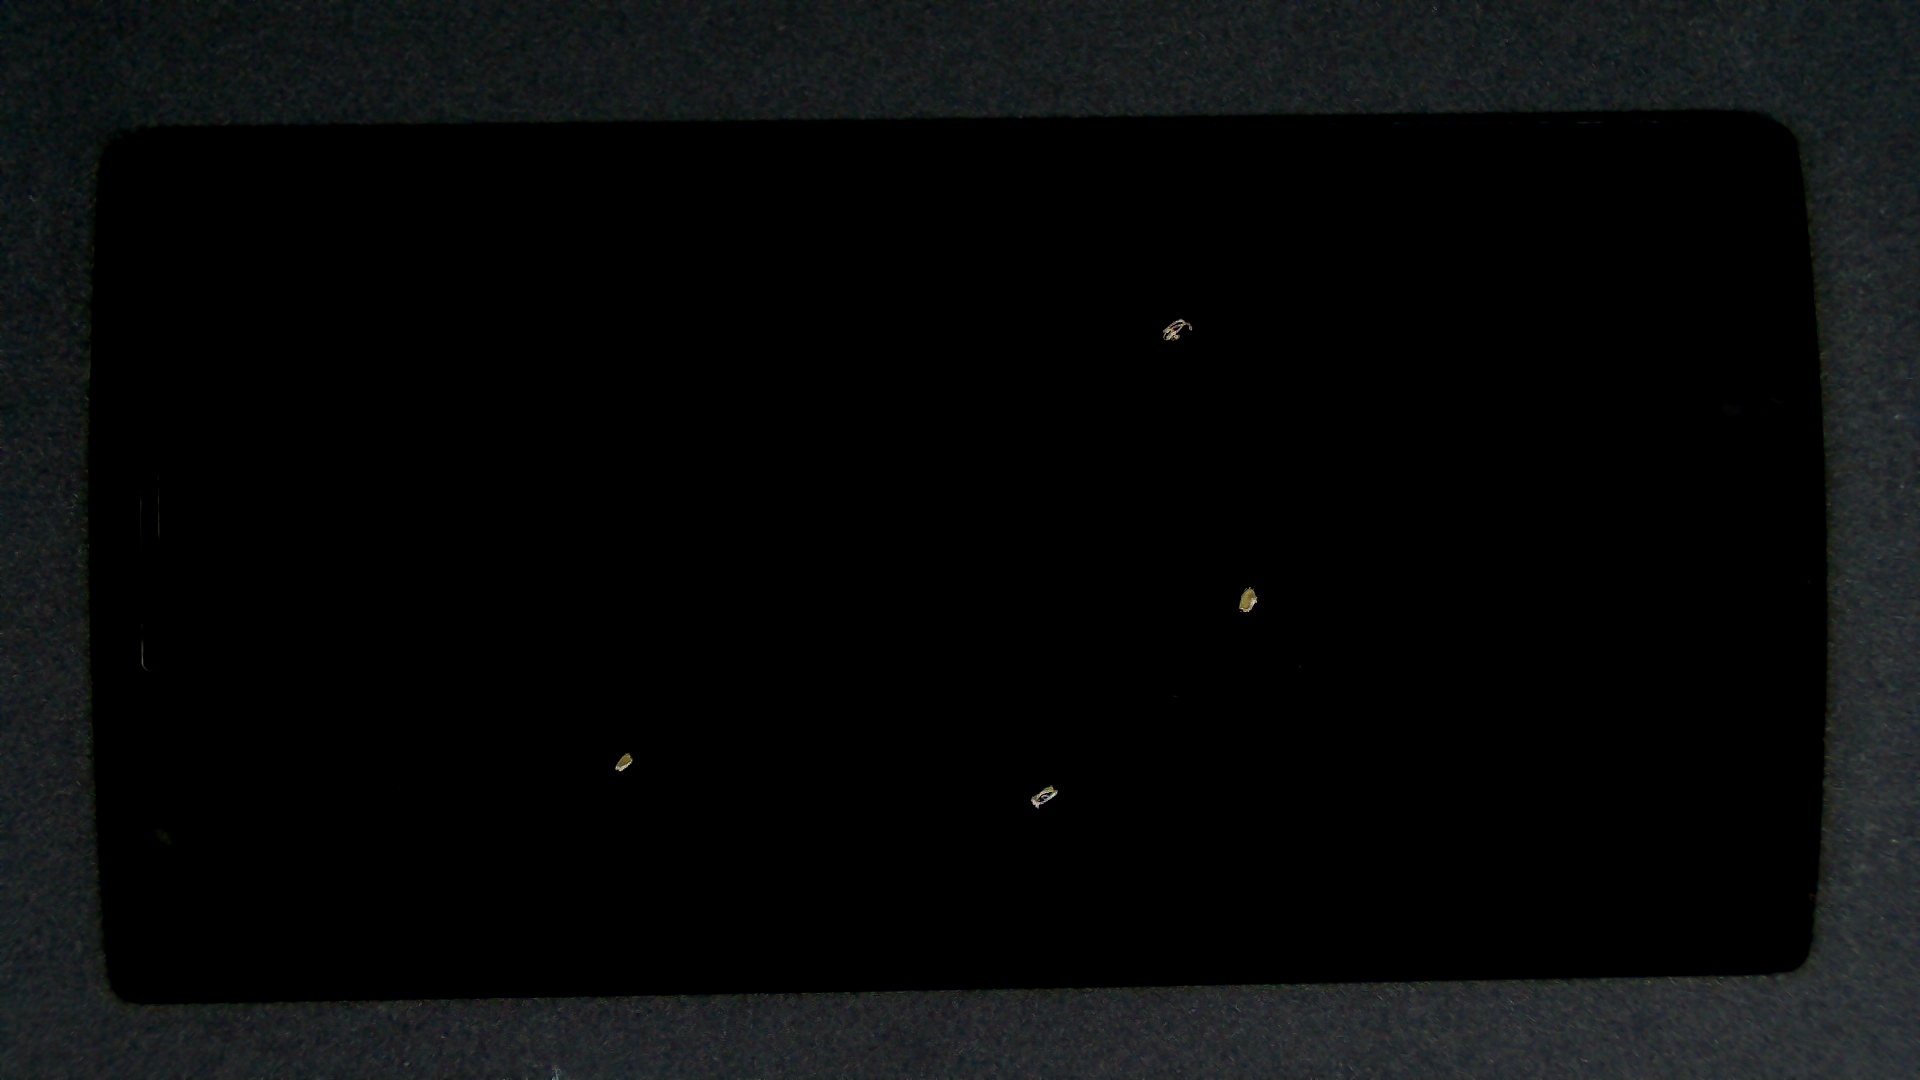oil: (625, 290, 1869, 880), (525, 392, 1575, 1080), (314, 375, 939, 1080), (591, 158, 1771, 476)
